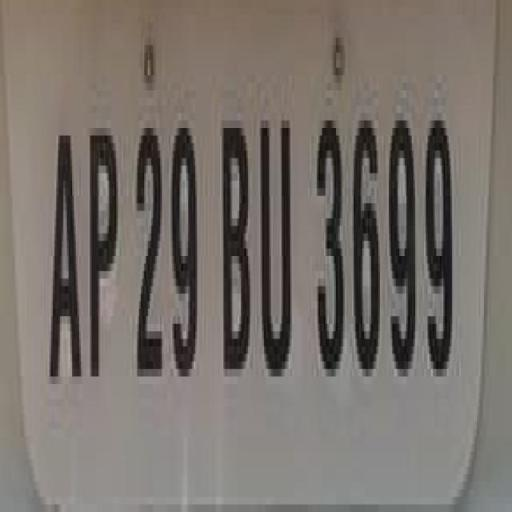number plate: (0, 7, 494, 512)
